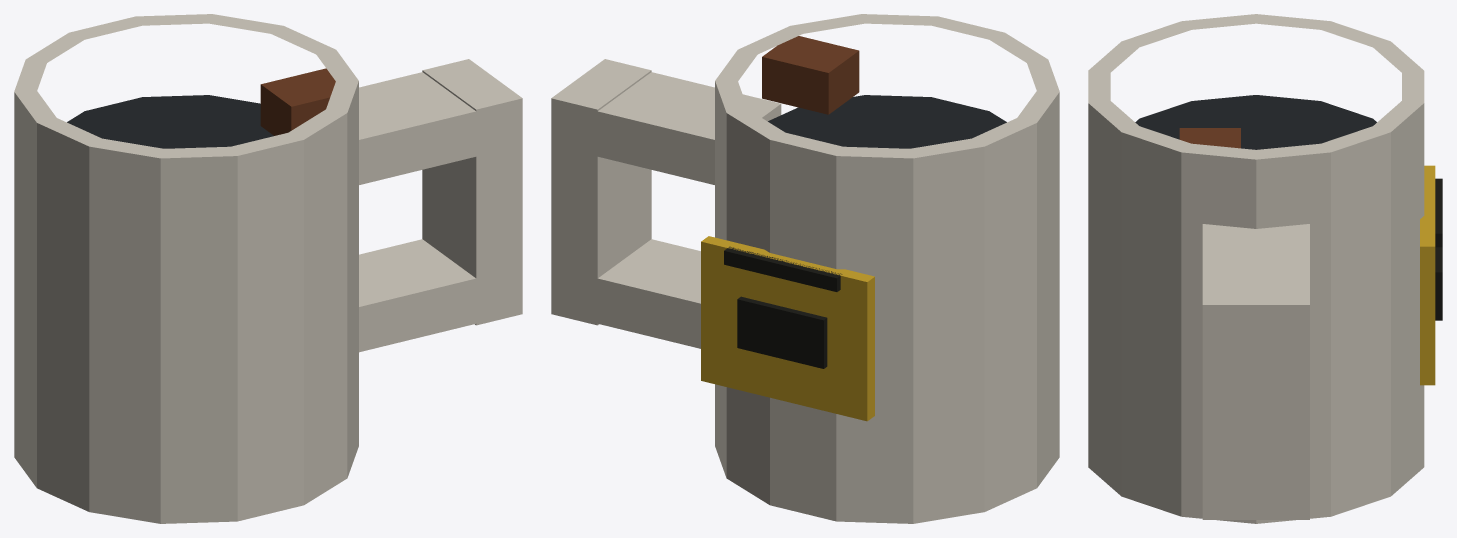
File: equip_mug.glb
3 renders of one model, left to right at view 1: azimuth 30°, elevation 25°; view 2: azimuth 150°, elevation 25°; view 3: azimuth 270°, elevation 25°, orthographic.
Visible parts, largest first — view 1: equip_mug; view 2: equip_mug; view 3: equip_mug.
Boxes of the visible parts, <box> form: equip_mug: <box>14,14,522,523</box>; equip_mug: <box>551,14,1059,523</box>; equip_mug: <box>1088,14,1442,523</box>.
Bounding box in the file's own units: 0.138 × 0.105 × 0.0926.
